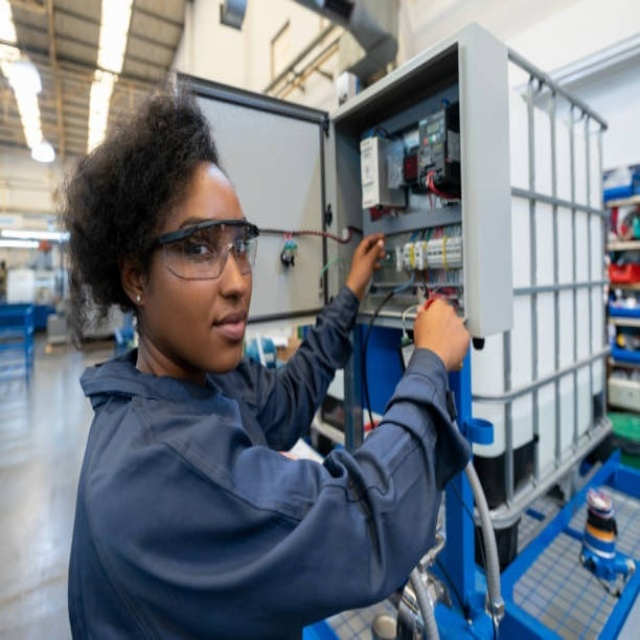Gafas: (146, 219, 261, 281)
Sin_guantes: (410, 295, 471, 372), (342, 226, 391, 295)
Sin_mascara: (199, 300, 252, 364)
